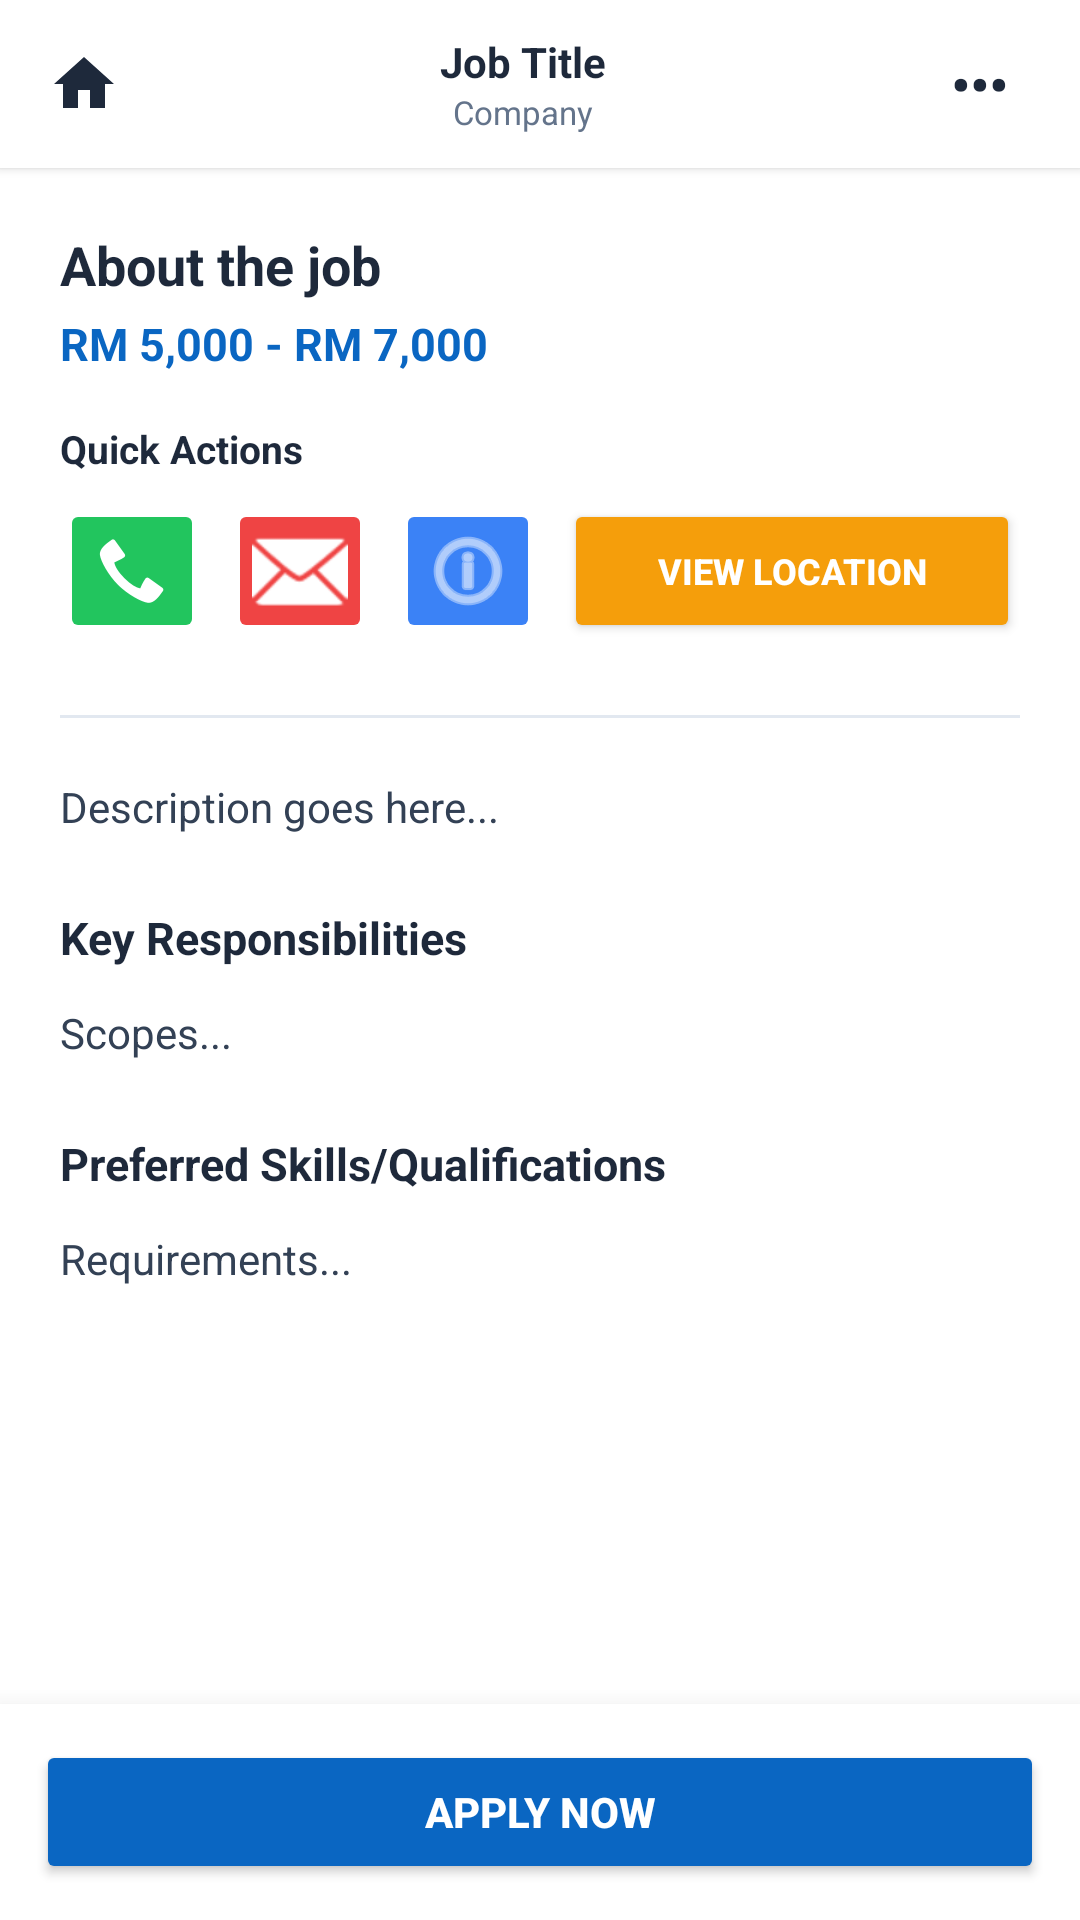

Screen size 1080*1920. Icon name, then its box in pixels as (x1, y1, x2, y2):
Email: (240, 517, 360, 625)
phone call: (72, 517, 192, 625)
